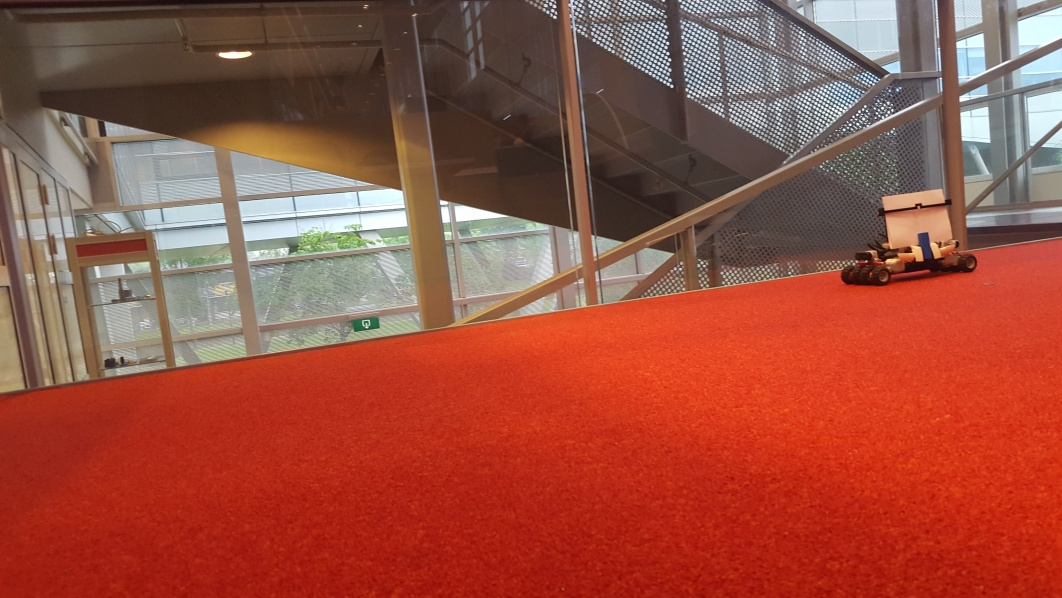car: (842, 188, 981, 286)
